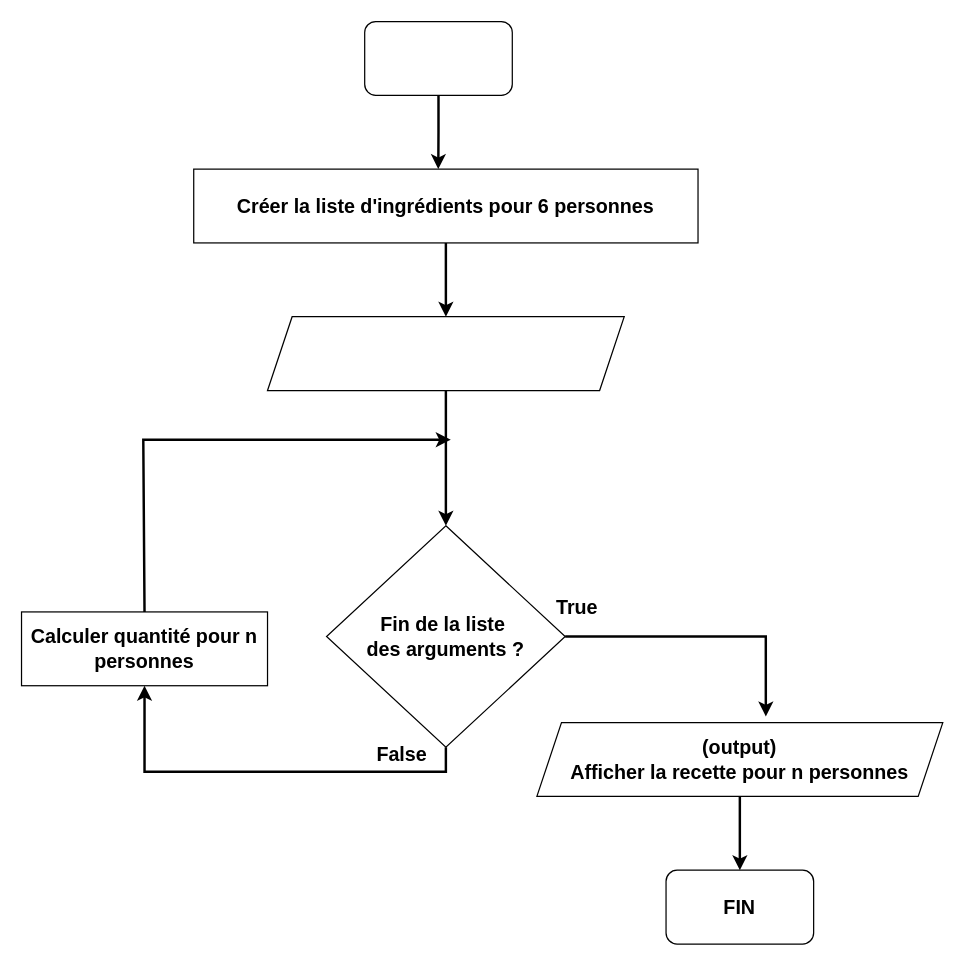
Some shapes in this 964 by 966 pixel diagram are drawn without their labels. The shapes that lost their labels are listed below. From the top down, each one's box as (x1, y1, x2, y2) in pixels, then its label:
(363, 20, 512, 95): DEBUT
(266, 315, 624, 391): Entrez le nombre de personnes : n
